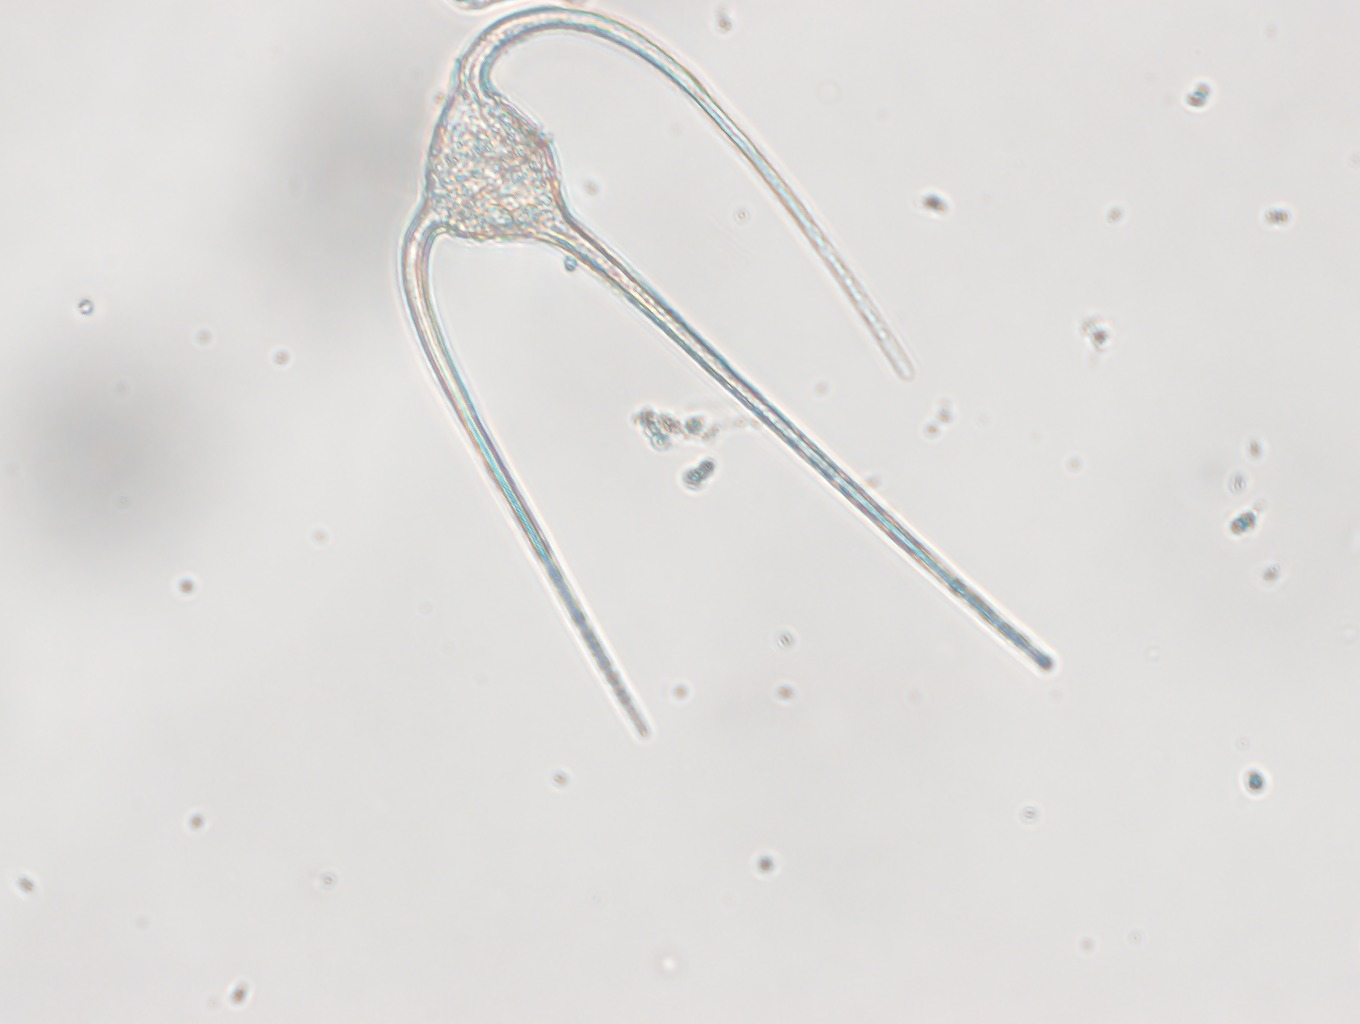ceratium trichoceros: (396, 6, 1055, 739)
